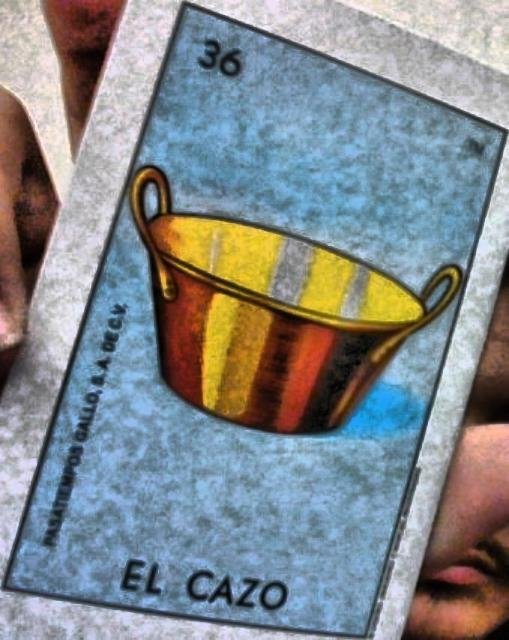El Cazo: (1, 7, 507, 635)
